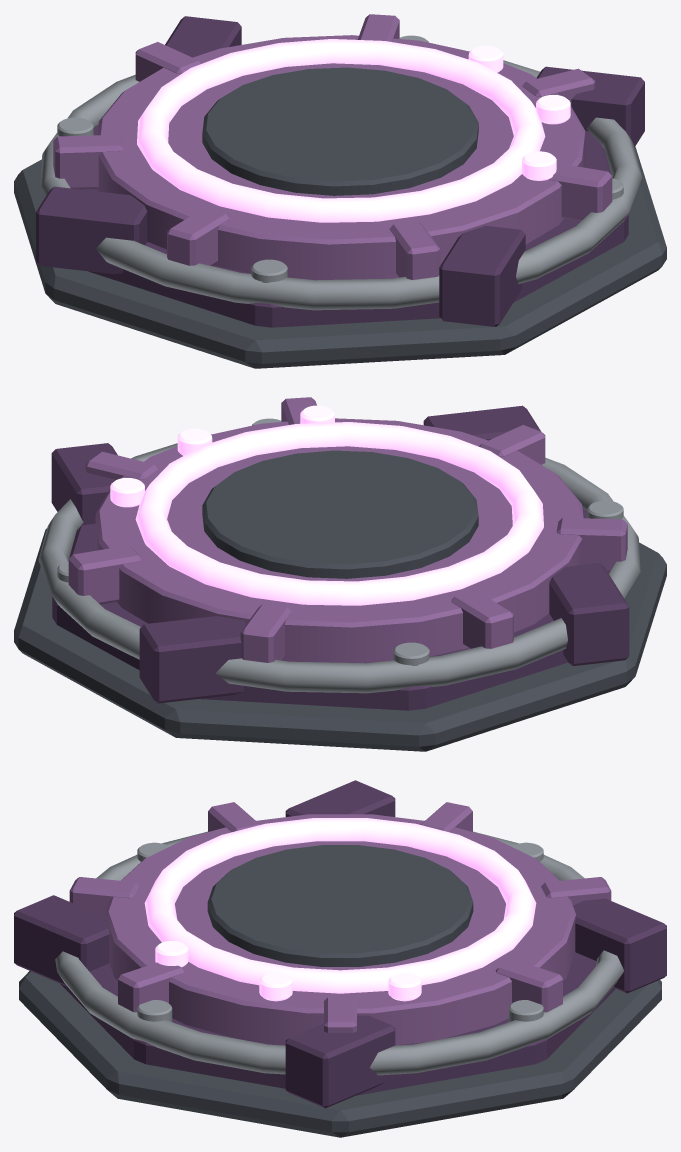
File: void_base_l3.glb
3 views of the same model, one above another, from view 1: azimuth 30°, elevation 25°; view 2: azimuth 150°, elevation 25°; view 3: azimuth 270°, elevation 25° (orthographic). The views are drawn at different scales.
Parts seen in each view (by area): view 1: Cylinder.002, Cylinder, Cylinder.003, Torus.001, Torus, Cylinder.001, Cube.009, Cube.010, Cube.007, Cube.003, Cube.006, Cube.004 (+10 smaller); view 2: Cylinder.002, Cylinder, Cylinder.003, Torus.001, Torus, Cylinder.001, Cube.008, Cube.009, Cube.007, Cube.001, Cube.003, Cube.004 (+10 smaller); view 3: Cylinder.002, Cylinder, Cylinder.003, Torus.001, Torus, Cylinder.001, Cube.007, Cube.010, Cube.008, Cube.009, Cube.001, Cube.006 (+10 smaller).
Part boxes in pixels (box(x1,y1,x2,y2)): Cylinder.002: box(97, 35, 585, 279); Cylinder: box(14, 146, 666, 368); Cylinder.003: box(202, 67, 478, 195); Torus.001: box(137, 39, 545, 222); Torus: box(40, 60, 642, 310); Cylinder.001: box(83, 125, 628, 327); Cube.009: box(36, 186, 147, 274); Cube.010: box(439, 225, 525, 326); Cube.007: box(536, 66, 644, 147); Cube.003: box(53, 134, 124, 189); Cube.006: box(548, 163, 612, 221); Cube.004: box(167, 207, 229, 265); Cylinder.002: box(95, 418, 583, 662); Cylinder: box(14, 528, 666, 751); Cylinder.003: box(202, 450, 478, 578); Torus.001: box(135, 422, 543, 605); Torus: box(38, 443, 640, 693); Cylinder.001: box(52, 508, 608, 710); Cube.008: box(139, 616, 246, 703); Cube.009: box(549, 563, 629, 665); Cube.007: box(51, 443, 117, 525); Cube.001: box(68, 545, 142, 604); Cube.003: box(451, 590, 513, 648); Cube.004: box(556, 517, 627, 572); Cylinder.002: box(105, 814, 575, 1045); Cylinder: box(19, 971, 661, 1137); Cylinder.003: box(207, 845, 473, 966); Torus.001: box(144, 818, 536, 993); Torus: box(55, 831, 623, 1075); Cylinder.001: box(60, 952, 615, 1095); Cube.007: box(285, 1015, 395, 1108); Cube.010: box(14, 895, 109, 986); Cube.008: box(573, 898, 666, 993); Cube.009: box(285, 780, 395, 816); Cube.001: box(495, 959, 562, 1012); Cube.006: box(118, 962, 185, 1012).
Size of the model in its own units: 2.16 by 0.4 by 2.16.
